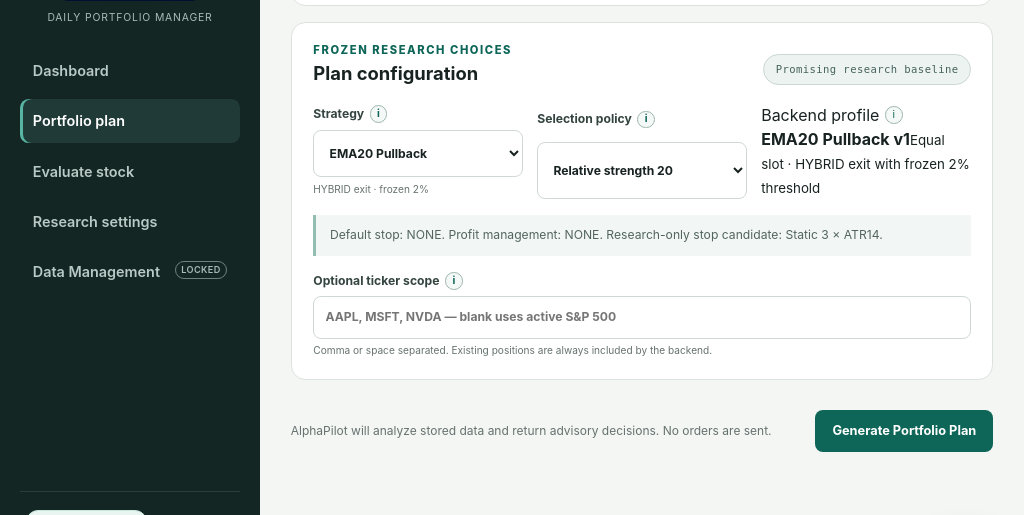
Test: failed regeneration leaves the prior plan visible and stale
This screenshot has width=1024, height=515.
(page scrolled)
Click the button "Generate Portfolio Plan": x=904, y=431 [815,410,993,452]
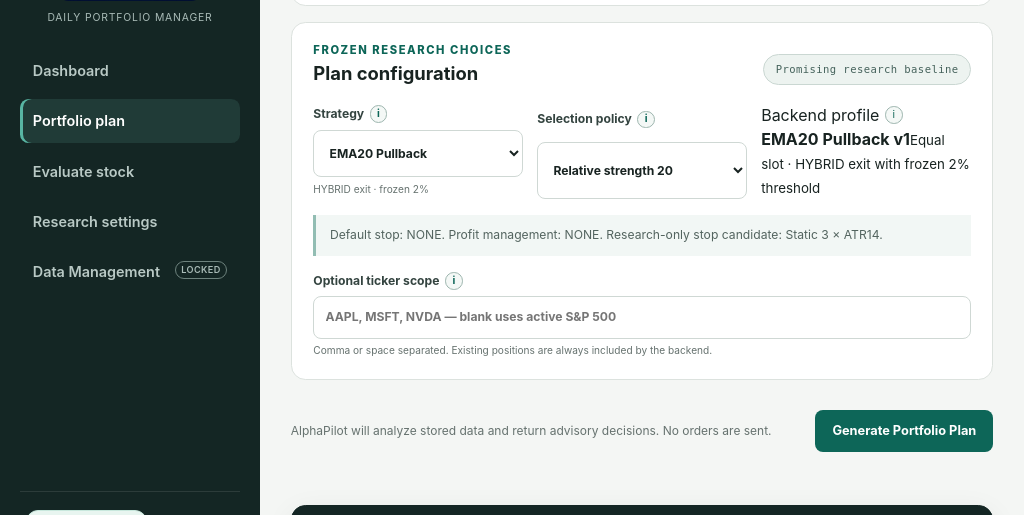
In the field labelled "Optional ticker scope": x=642, y=317 [313,296,971,339], type "MSFT"
(page scrolled)
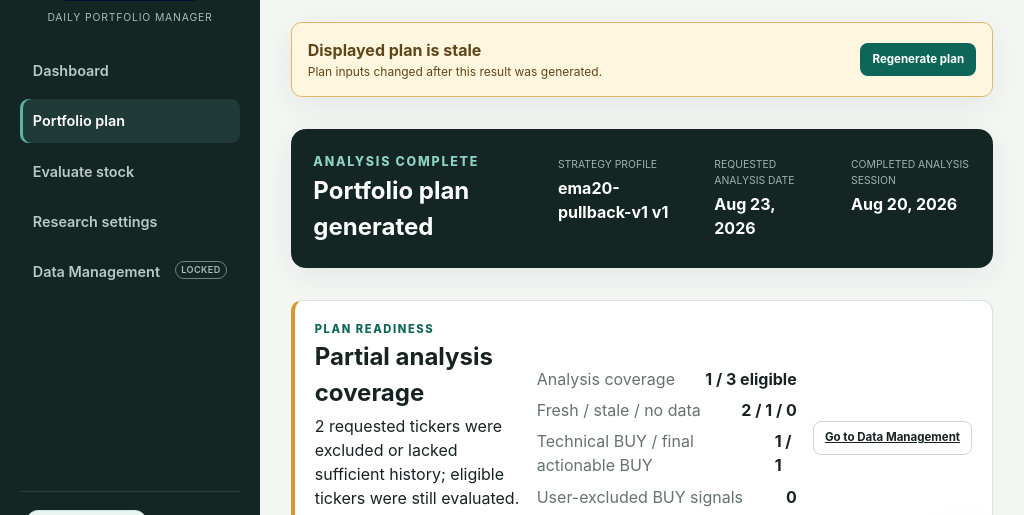
Now the heading "Portfolio plan generated" is shown, box [313,176,469,242]
Now the text "Displayed plan is stale" is shown, box [308,40,481,60]
